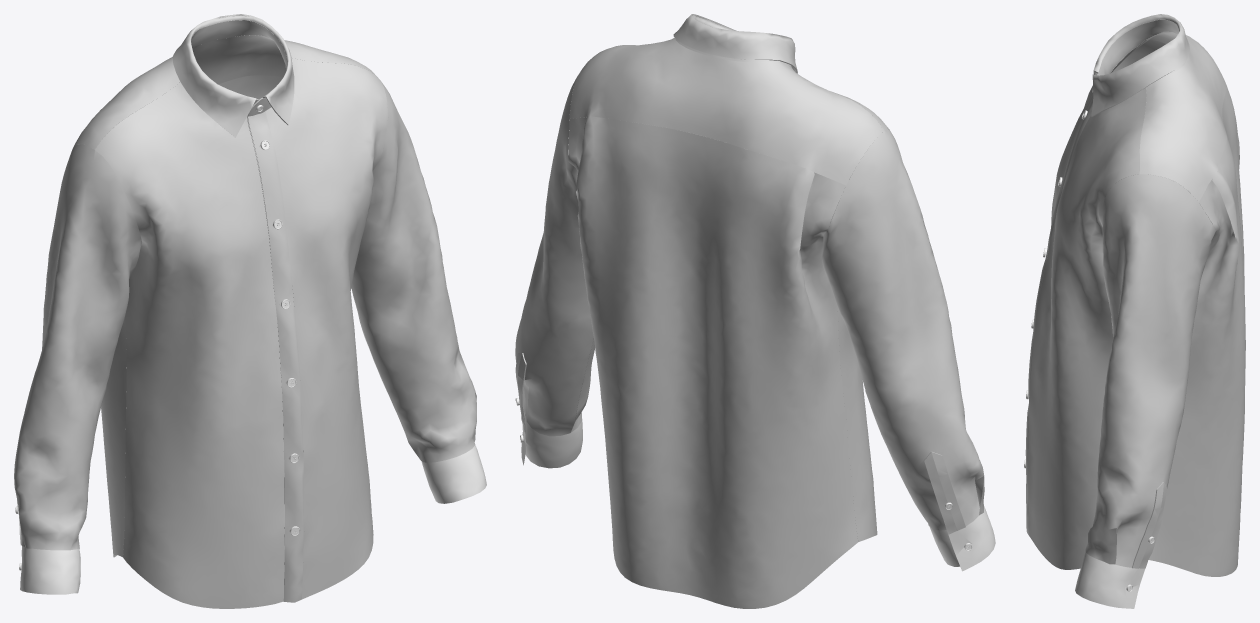
Rendered from Shirt.glb.
3 views of the same model, side by side, from view 1: azimuth 30°, elevation 25°; view 2: azimuth 150°, elevation 25°; view 3: azimuth 270°, elevation 25° (orthographic). The views are drawn at different scales.
Parts seen in each view (by area): view 1: Body_Front_2_Node, Body_Front_Node, Sleeves_1_Node, Sleeves_Node, Body_Front_Placket_1_Node, Body_Back_Yoke_Node, Body_Back_Node, Collar_Node, Cuffs_1_Node, Cuffs_Node, Collar_Stand_Node; view 2: Body_Back_Node, Sleeves_1_Node, Body_Back_Yoke_Node, Sleeves_Node, Body_Front_2_Node, Collar_Node, Cuffs_1_Node, Cuffs_Node, Sleeves_Placket_1_Node; view 3: Sleeves_Node, Body_Front_Node, Body_Back_Node, Body_Back_Yoke_Node, Collar_Node, Cuffs_Node, Collar_Stand_Node, Body_Front_Placket_1_Node, Sleeves_Placket_Node, Body_Front_2_Node, Sleeves_1_Node.
Boxes of the visible parts, box(x1,y1,x2,y2) form: Body_Front_2_Node: box(94, 82, 284, 608); Body_Front_Node: box(265, 58, 387, 599); Sleeves_1_Node: box(14, 144, 141, 550); Sleeves_Node: box(351, 81, 476, 462); Body_Front_Placket_1_Node: box(247, 111, 304, 602); Body_Back_Yoke_Node: box(73, 35, 378, 149); Body_Back_Node: box(101, 75, 282, 557); Collar_Node: box(173, 14, 294, 137); Cuffs_1_Node: box(20, 546, 80, 594); Cuffs_Node: box(421, 445, 486, 503); Collar_Stand_Node: box(191, 20, 287, 116); Body_Back_Node: box(568, 116, 858, 608); Sleeves_1_Node: box(822, 128, 984, 530); Body_Back_Yoke_Node: box(569, 37, 883, 185); Sleeves_Node: box(515, 76, 594, 436); Body_Front_2_Node: box(788, 65, 889, 541); Collar_Node: box(673, 14, 797, 73); Cuffs_1_Node: box(929, 506, 995, 571); Cuffs_Node: box(521, 411, 582, 468); Sleeves_Placket_1_Node: box(924, 451, 965, 534); Sleeves_Node: box(1085, 174, 1215, 567); Body_Front_Node: box(1027, 87, 1146, 569); Body_Back_Node: box(1148, 86, 1245, 576); Body_Back_Yoke_Node: box(1139, 31, 1226, 201); Collar_Node: box(1091, 14, 1189, 116); Cuffs_Node: box(1075, 551, 1144, 608); Collar_Stand_Node: box(1097, 19, 1185, 78); Body_Front_Placket_1_Node: box(1025, 103, 1092, 536); Sleeves_Placket_Node: box(1132, 482, 1166, 568); Body_Front_2_Node: box(1051, 39, 1146, 226); Sleeves_1_Node: box(1112, 39, 1165, 72).
Bounding box in the file's own units: 0.704 × 0.7919 × 0.3073.
Materials: 13 (7 with a texture image).
